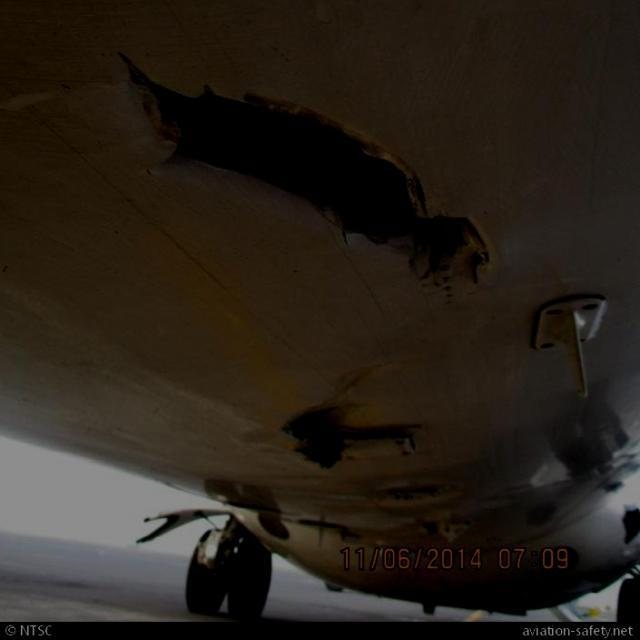crack: (118, 51, 494, 291)
